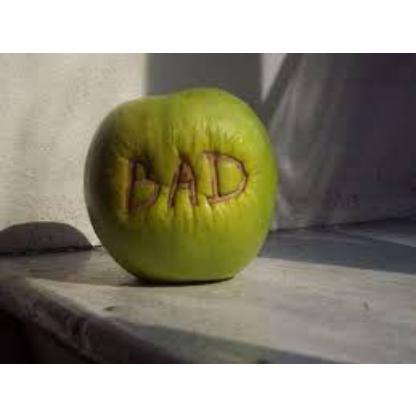apple: (74, 88, 276, 280)
